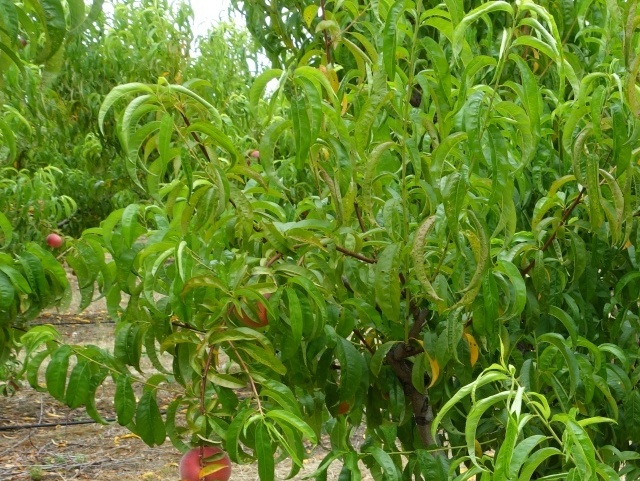peach: (173, 438, 235, 481), (229, 286, 273, 330), (42, 230, 64, 251)
